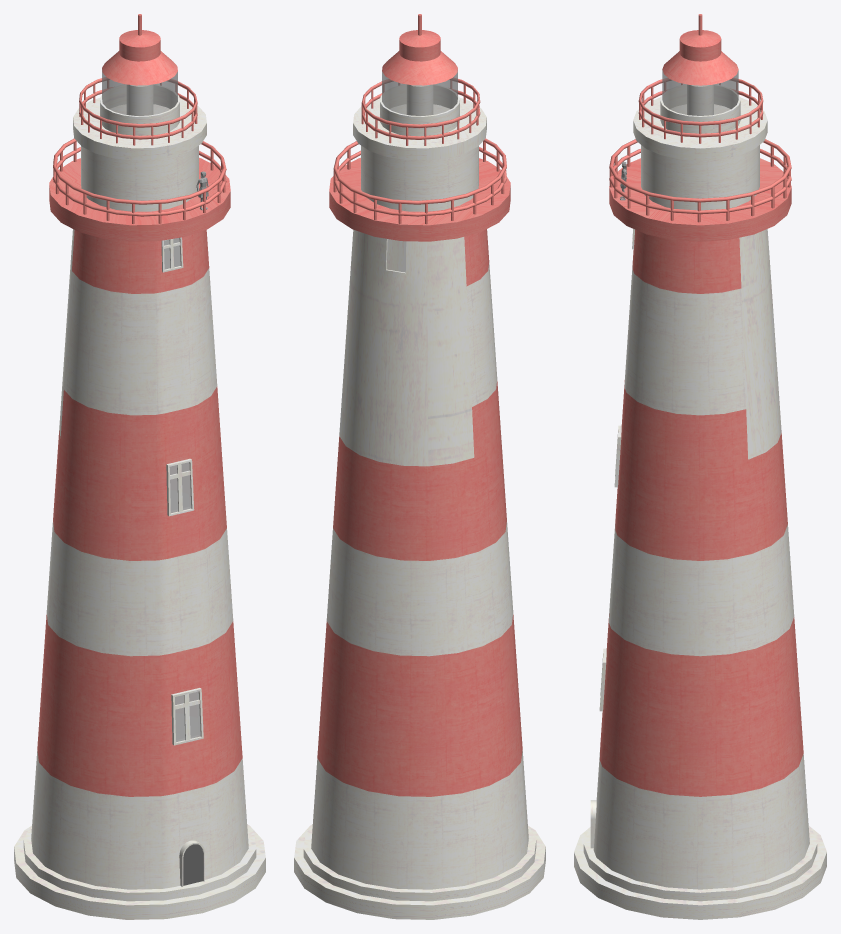
Rendered from LightHouse.fbx.
3 views of the same model, side by side, from view 1: azimuth 30°, elevation 25°; view 2: azimuth 150°, elevation 25°; view 3: azimuth 270°, elevation 25° (orthographic).
Parts seen in each view (by area): view 1: Tower1, Top, TopStanding, UpperBase, LightPart, UpperTopStanding, WalkBase, pTorus1 (×2), pTorus2 (×2), pCylinder1, Light; view 2: Tower1, Top, TopStanding, UpperBase, LightPart, UpperTopStanding, WalkBase, pTorus1 (×2), pTorus2 (×2), Light; view 3: Tower1, Top, TopStanding, UpperBase, LightPart, UpperTopStanding, WalkBase, pTorus1 (×2), pTorus2 (×2), Light.
Part boxes in pixels (left/top/right/bottom): Tower1: left=31, top=229, right=248, bottom=889; Top: left=100, top=14, right=179, bottom=135; TopStanding: left=49, top=157, right=230, bottom=241; UpperBase: left=14, top=824, right=265, bottom=919; LightPart: left=81, top=145, right=198, bottom=211; UpperTopStanding: left=73, top=98, right=206, bottom=160; WalkBase: left=23, top=826, right=256, bottom=901; pTorus1 (×2): left=53, top=77, right=226, bottom=204; pTorus2 (×2): left=53, top=87, right=226, bottom=216; pCylinder1: left=179, top=840, right=204, bottom=886; Light: left=126, top=84, right=153, bottom=115; Tower1: left=311, top=229, right=528, bottom=889; Top: left=380, top=14, right=459, bottom=136; TopStanding: left=329, top=157, right=510, bottom=241; UpperBase: left=294, top=824, right=545, bottom=919; LightPart: left=361, top=145, right=478, bottom=211; UpperTopStanding: left=353, top=98, right=486, bottom=160; WalkBase: left=303, top=826, right=536, bottom=901; pTorus1 (×2): left=333, top=77, right=506, bottom=204; pTorus2 (×2): left=334, top=89, right=506, bottom=216; Light: left=406, top=84, right=433, bottom=115; Tower1: left=593, top=229, right=809, bottom=889; Top: left=660, top=14, right=740, bottom=133; TopStanding: left=609, top=158, right=791, bottom=241; UpperBase: left=574, top=826, right=826, bottom=919; LightPart: left=641, top=145, right=759, bottom=210; UpperTopStanding: left=633, top=97, right=767, bottom=160; WalkBase: left=583, top=826, right=817, bottom=901; pTorus1 (×2): left=609, top=78, right=791, bottom=202; pTorus2 (×2): left=609, top=89, right=791, bottom=214; Light: left=687, top=84, right=713, bottom=115.
Size of the model in its own units: 395 by 1466 by 395.
